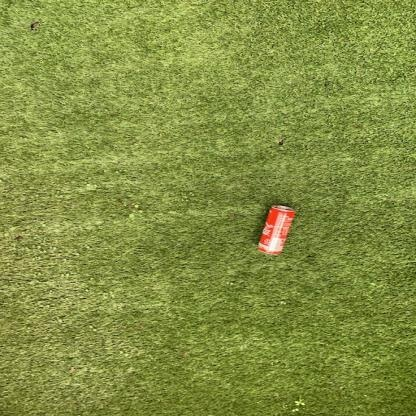trash: (258, 205, 294, 253)
